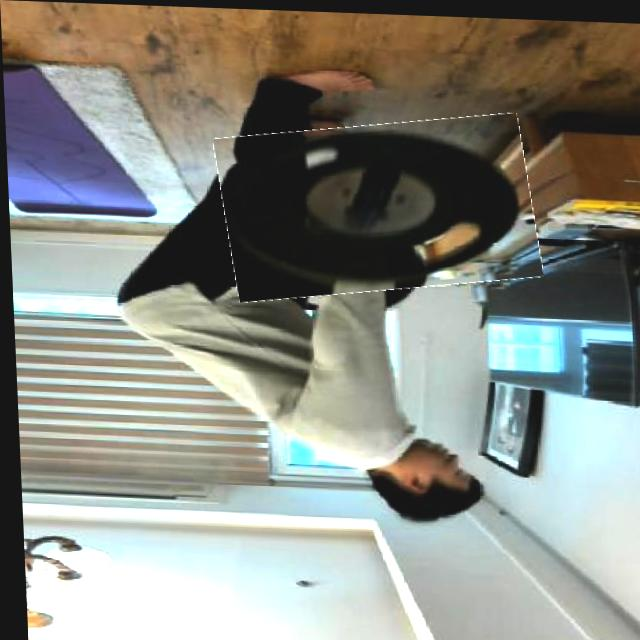barbell: (215, 110, 538, 301)
